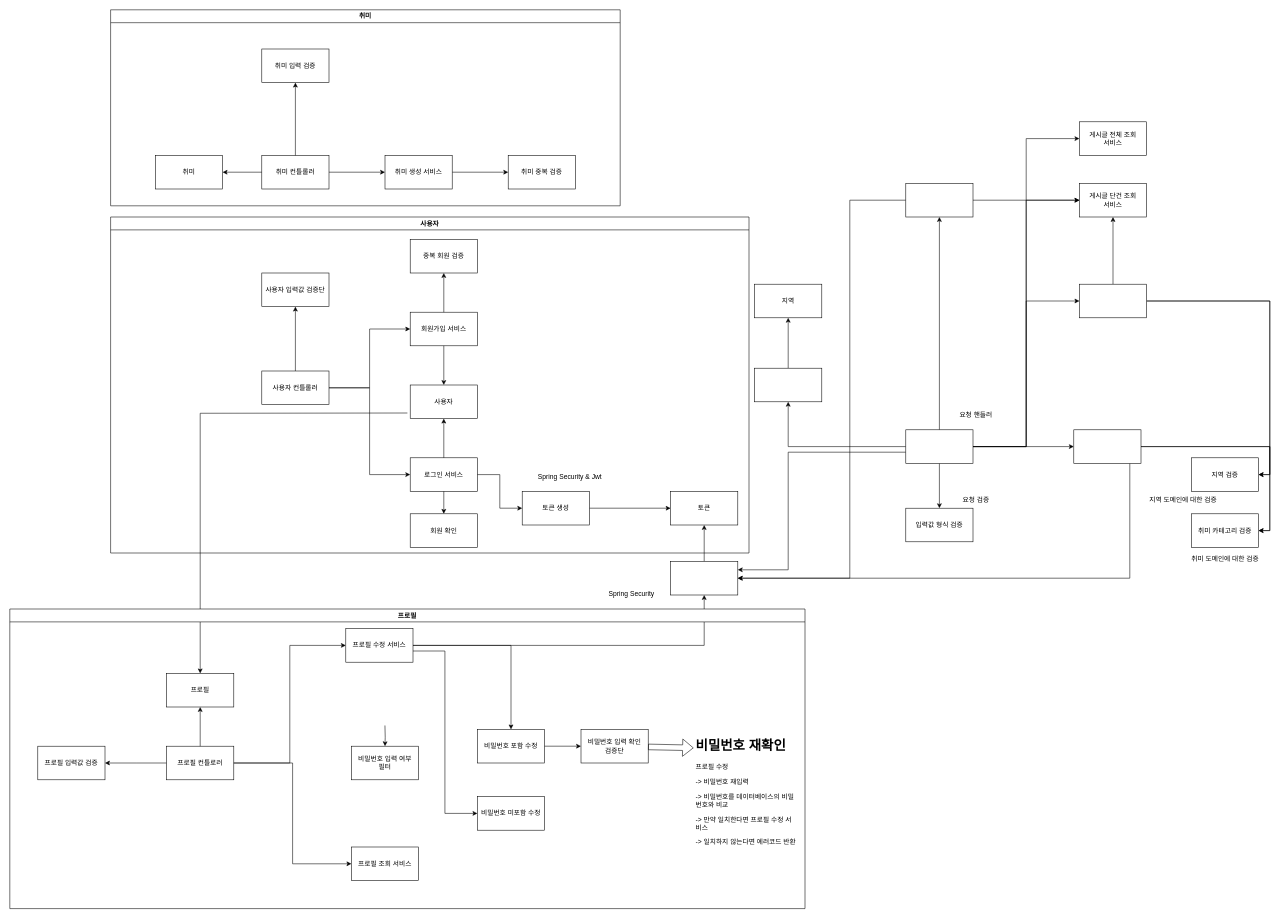
Image size: 1284x918. Some labels were removed from this diagram. The shapes that lost their labels are listed below. From the top down, each one's centre as x and y in pixels, then its label:
At point 939,200: "게시글 삭제 서비스".
At point 1113,301: "게시글 수정 서비스".
At point 788,385: "게시글".
At point 939,446: "게시글 컨틀롤러".
At point 1107,446: "게시글 작성 서비스".
At point 704,578: "토큰 검증단".
